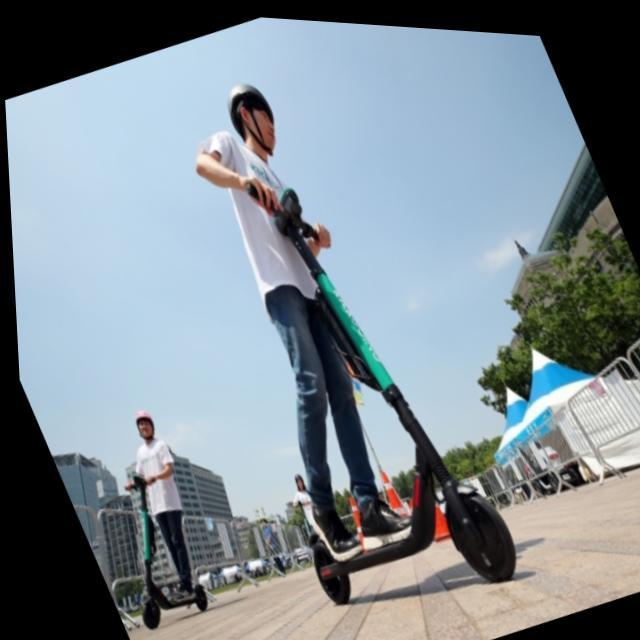Helmet: (216, 66, 288, 162)
